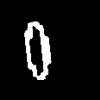chain: (24, 22, 50, 79)
